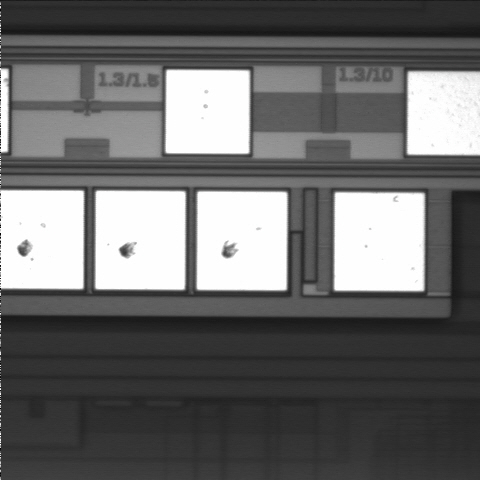pad: (95, 191, 185, 290), (197, 191, 287, 290), (334, 192, 424, 291), (166, 70, 250, 154)
